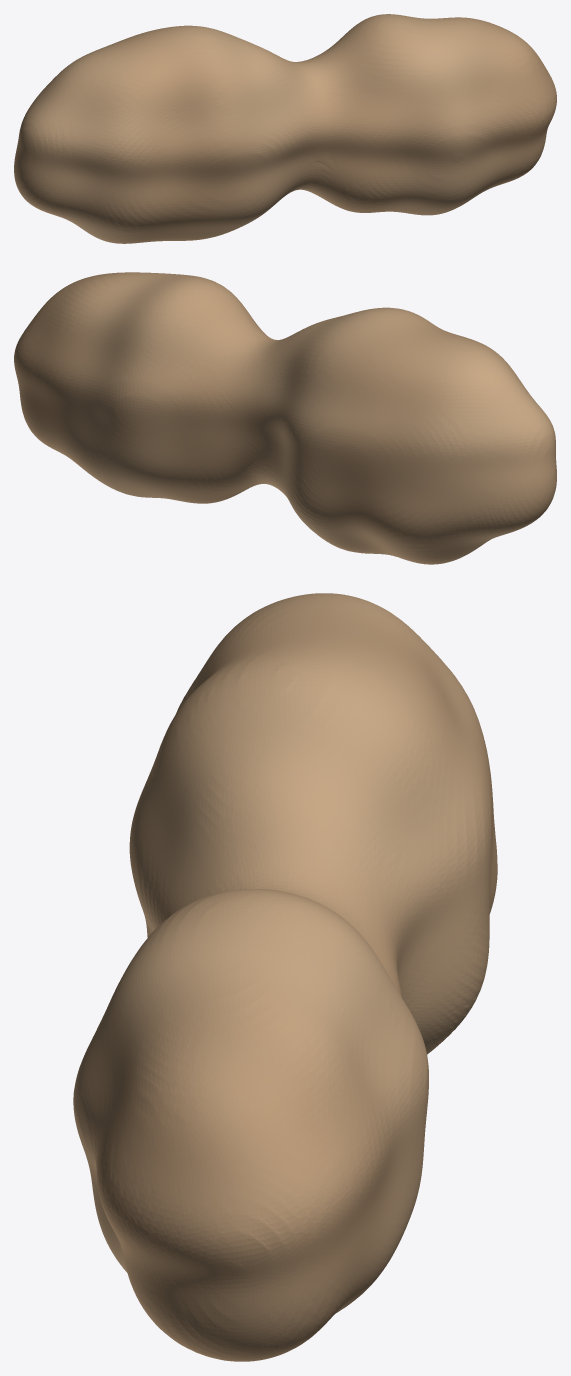
The model's file is single_roasted_peanut.glb.
The picture shows the model from 3 angles, top to bottom: view 1: azimuth 30°, elevation 25°; view 2: azimuth 150°, elevation 25°; view 3: azimuth 270°, elevation 25°; orthographic projection. The views are drawn at different scales.
Parts seen in each view (by area): view 1: world; view 2: world; view 3: world.
Part boxes in pixels (left/top/right/bottom): world: left=14, top=14, right=556, bottom=243; world: left=14, top=272, right=556, bottom=564; world: left=73, top=593, right=497, bottom=1361.
Bounding box in the file's own units: 24.03 × 10.09 × 8.73.
